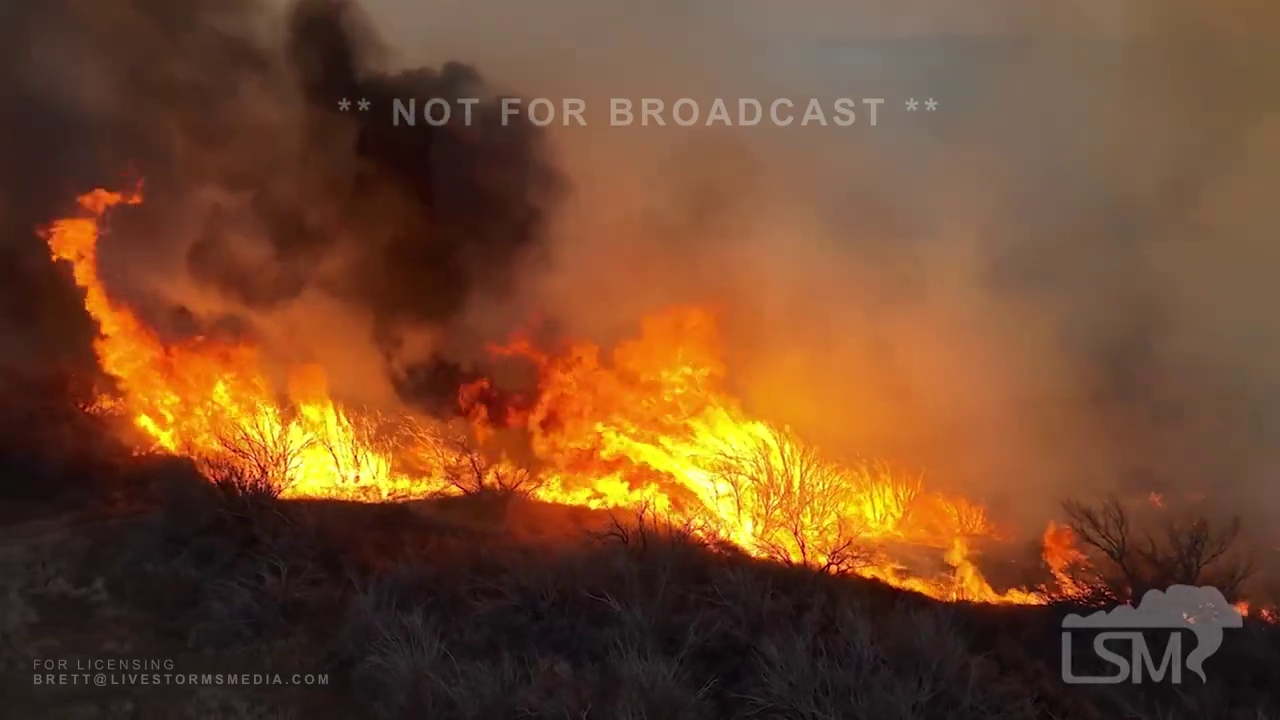forest_fire: (40, 188, 1090, 604)
